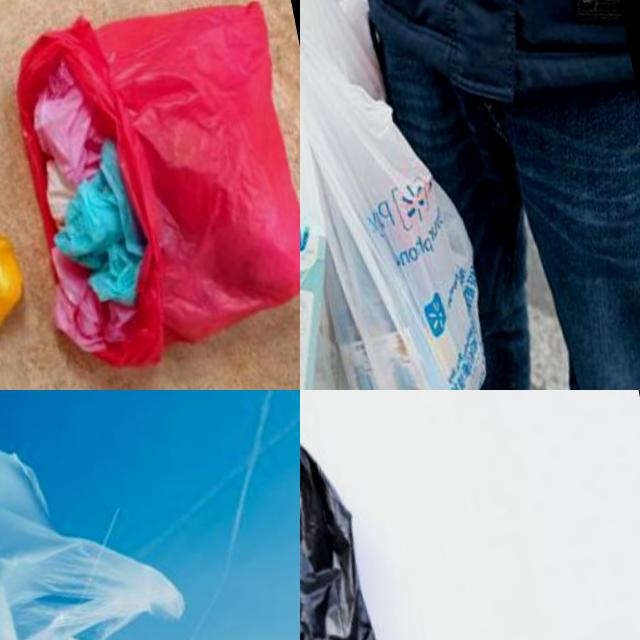sacola plástica: (0, 0, 300, 388), (300, 0, 518, 390), (0, 390, 243, 640), (300, 404, 441, 640), (300, 0, 369, 390), (0, 215, 42, 390)
